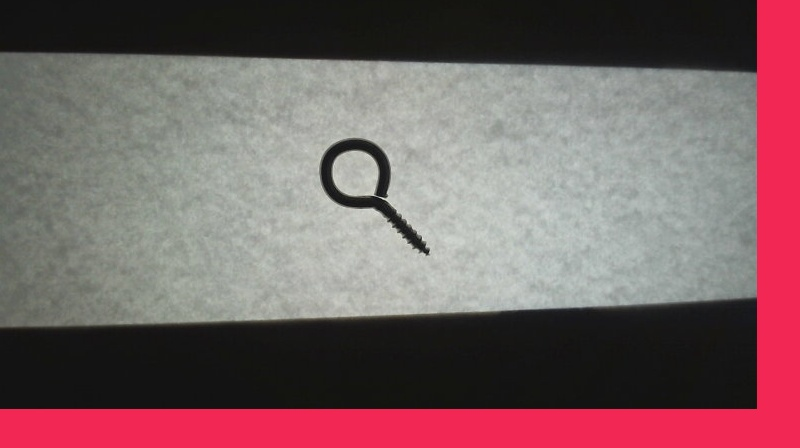O001: (310, 134, 429, 256)
